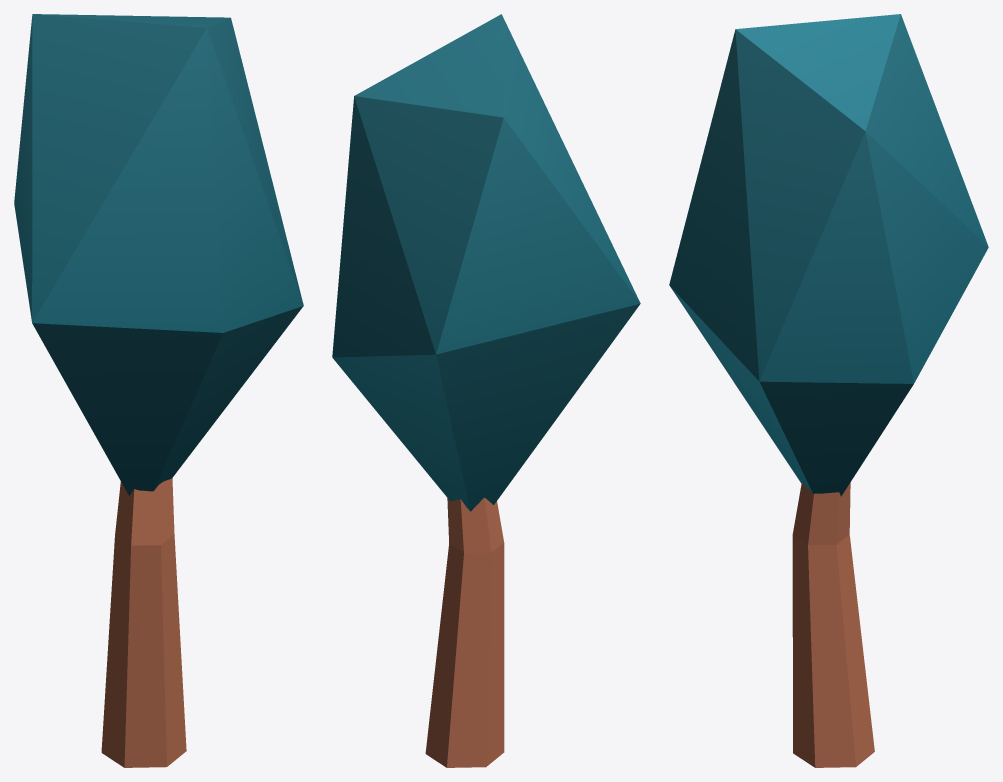
Rendered from Tree_08_gradient_blue_vc.fbx.
3 views of the same model, side by side, from view 1: azimuth 30°, elevation 25°; view 2: azimuth 150°, elevation 25°; view 3: azimuth 270°, elevation 25° (orthographic). The views are drawn at different scales.
Visible parts, largest first — view 1: Tree_08_gradient_blue_vc; view 2: Tree_08_gradient_blue_vc; view 3: Tree_08_gradient_blue_vc.
Part boxes in pixels (x1,y1,x2,y2): Tree_08_gradient_blue_vc: (14, 14, 303, 767); Tree_08_gradient_blue_vc: (332, 14, 640, 767); Tree_08_gradient_blue_vc: (669, 14, 988, 767).
Bounding box in the file's own units: 93.3 × 249 × 98.84.
